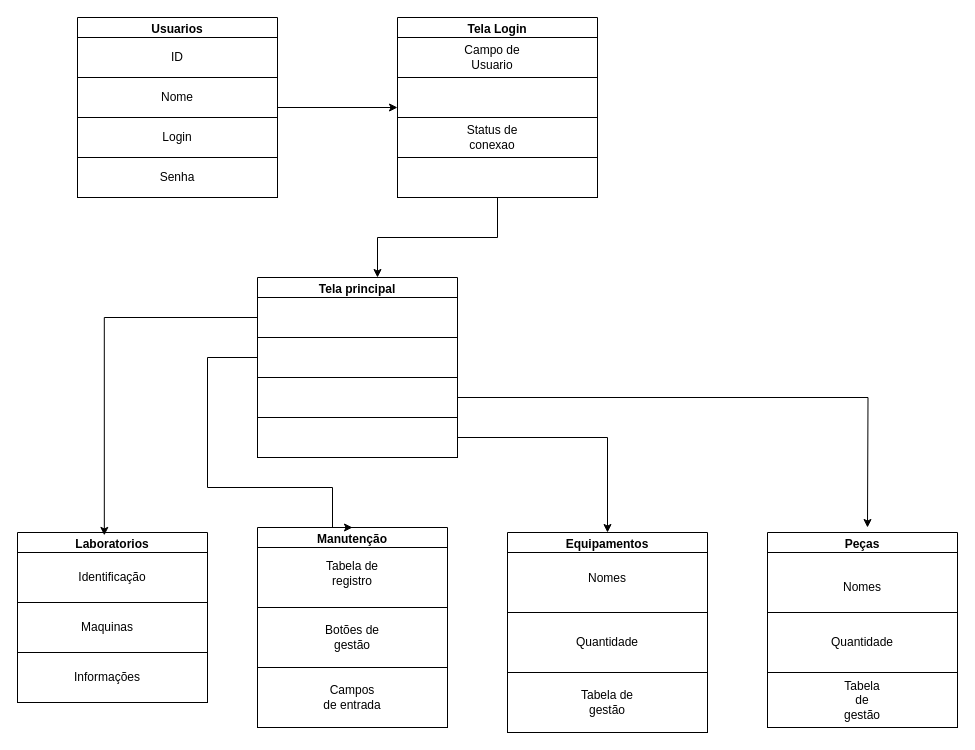
The diagram is 975 pixels wide and 750 high, and some of its shapes have lost their labels. Each missing label, with the centre of its shape:
Botão entrar: the point at 497,177
Campo de senha: the point at 497,97
Menu equipamentos: the point at 357,437
Menu laboratorio: the point at 357,317
Menu manutenção: the point at 357,357
Menu Peças: the point at 357,397
